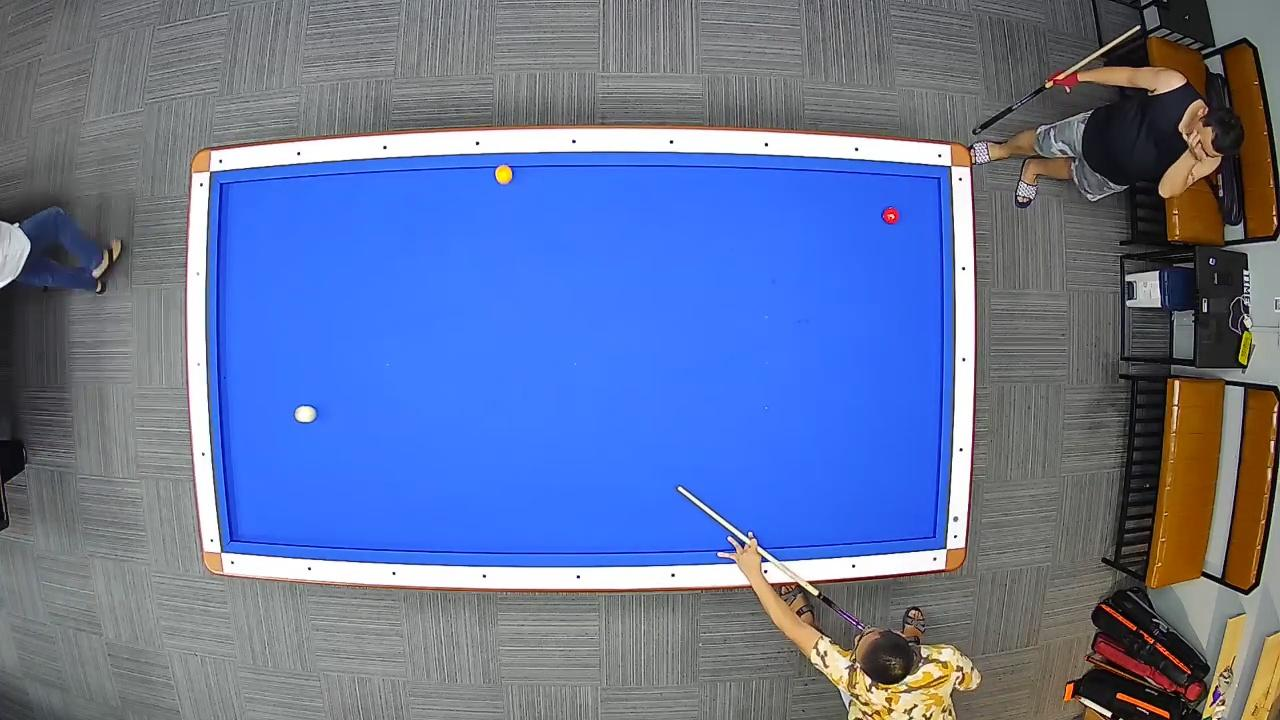Red: (881, 206, 900, 226)
White: (292, 404, 318, 423)
Yellow: (494, 163, 514, 186)
